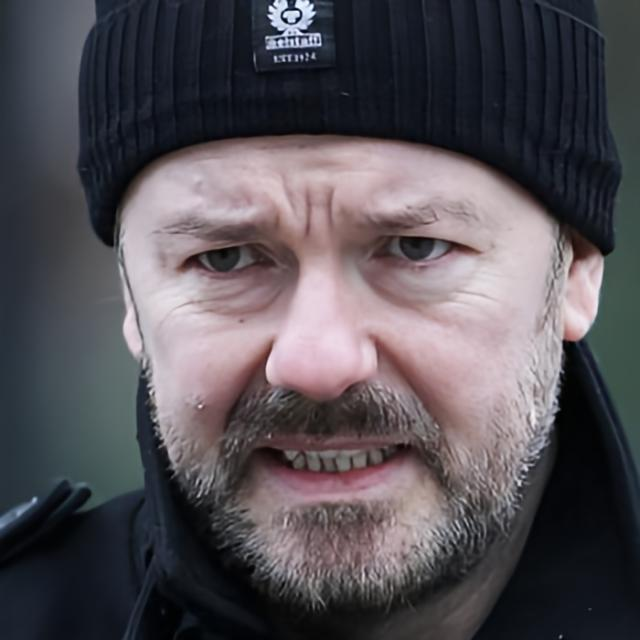anger: (127, 58, 563, 630)
